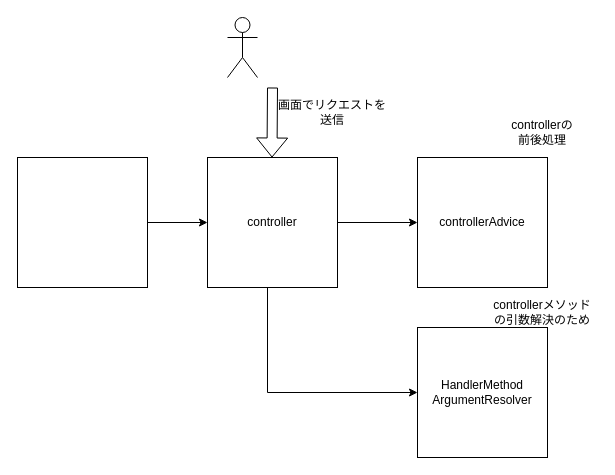
Image size: 615x475. Some labels were removed from this diagram. The box of each missing label's shape, as (x1, y1, x2, y2) in pixels:
springBootAplication: (16, 156, 148, 288)
ユーザー: (226, 16, 258, 78)
